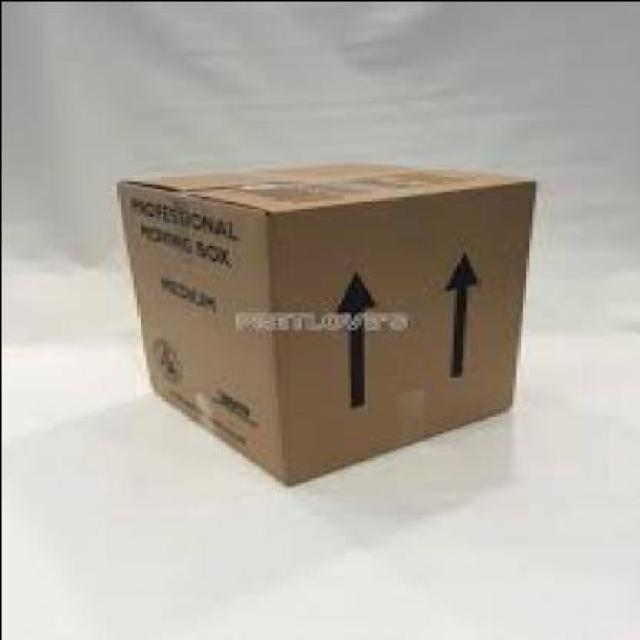CARDBOARD: (112, 156, 531, 490)
